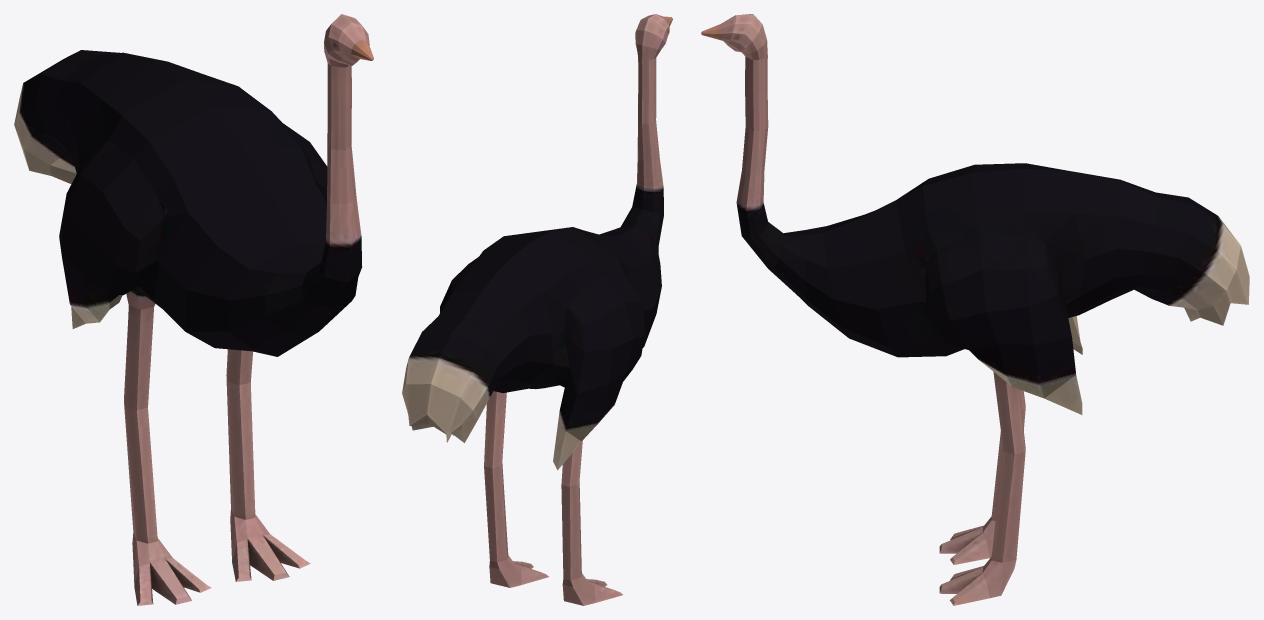
Rendered from nature-ostrich-246.glb.
3 views of the same model, side by side, from view 1: azimuth 30°, elevation 25°; view 2: azimuth 150°, elevation 25°; view 3: azimuth 270°, elevation 25° (orthographic). The views are drawn at different scales.
Visible parts, largest first — view 1: Ostrich_mesh; view 2: Ostrich_mesh; view 3: Ostrich_mesh.
Part boxes in pixels (box(x1,y1,x2,y2)): Ostrich_mesh: box(14, 14, 373, 605); Ostrich_mesh: box(402, 14, 672, 605); Ostrich_mesh: box(701, 14, 1249, 605).
Bounding box in the file's own units: 4.26 × 11.34 × 10.15.
1 material, 1 textured.
